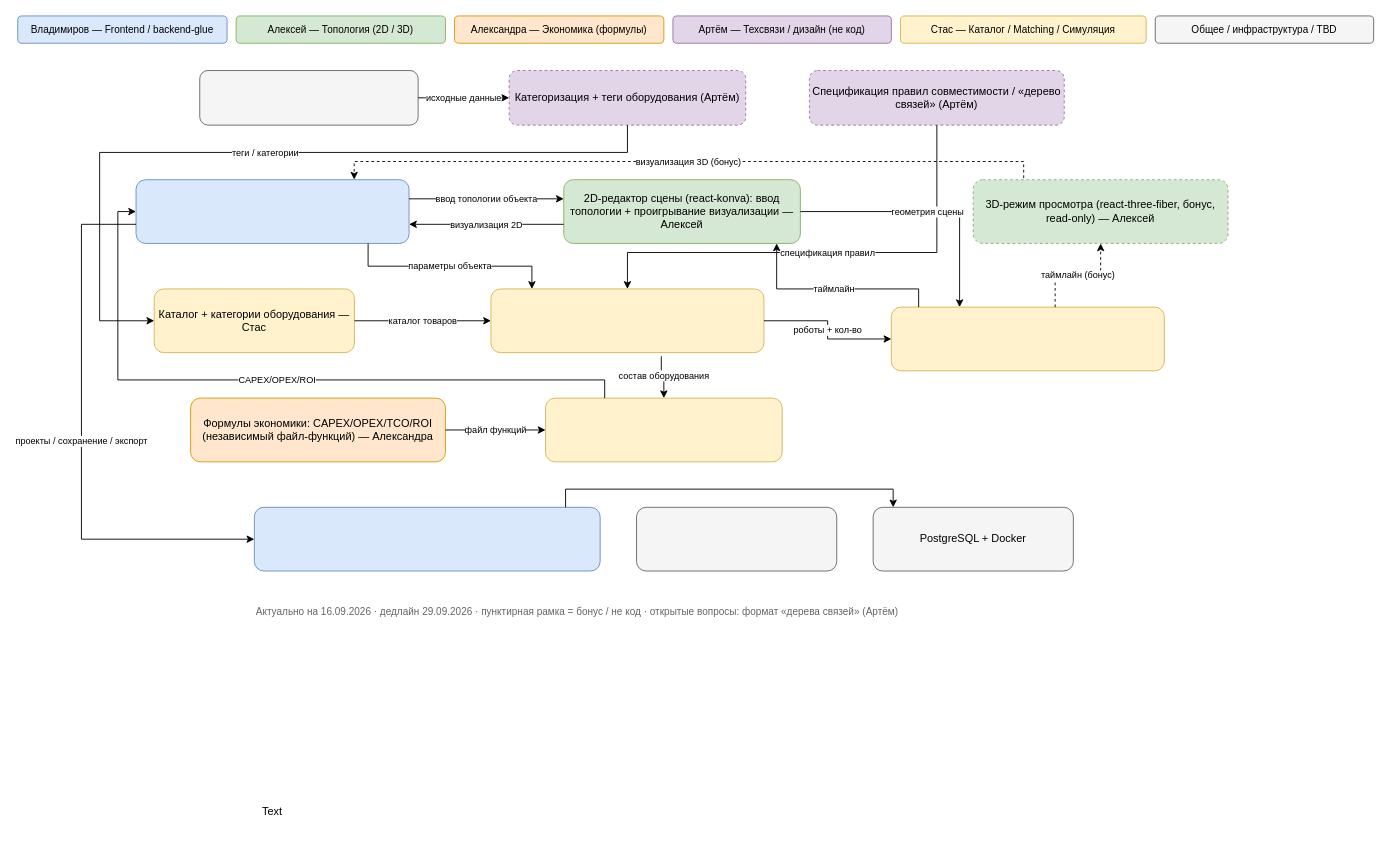
The diagram is 1390 pixels wide and 842 high, and some of its shapes have lost their labels. Here are the shapes that lost their labels. From the top down, the centre of each, then its label:
(x=308, y=97): Файлы оргов: каталог решений, цены БАС/БРС (Excel), демо-датасеты объектов
(x=272, y=211): Frontend: визард 8 шагов (React) — Владимиров
(x=627, y=320): Matching: ранжирование + эвалюатор совместимости — Стас
(x=1027, y=338): Симуляция / тайминг движения роботов (Python) — Стас
(x=663, y=429): API-обёртка экономики — Стас
(x=426, y=538): Backend-glue: проекты / persistence / auth / экспорт — Владимиров
(x=736, y=538): Общие контракты (pydantic-схемы)
